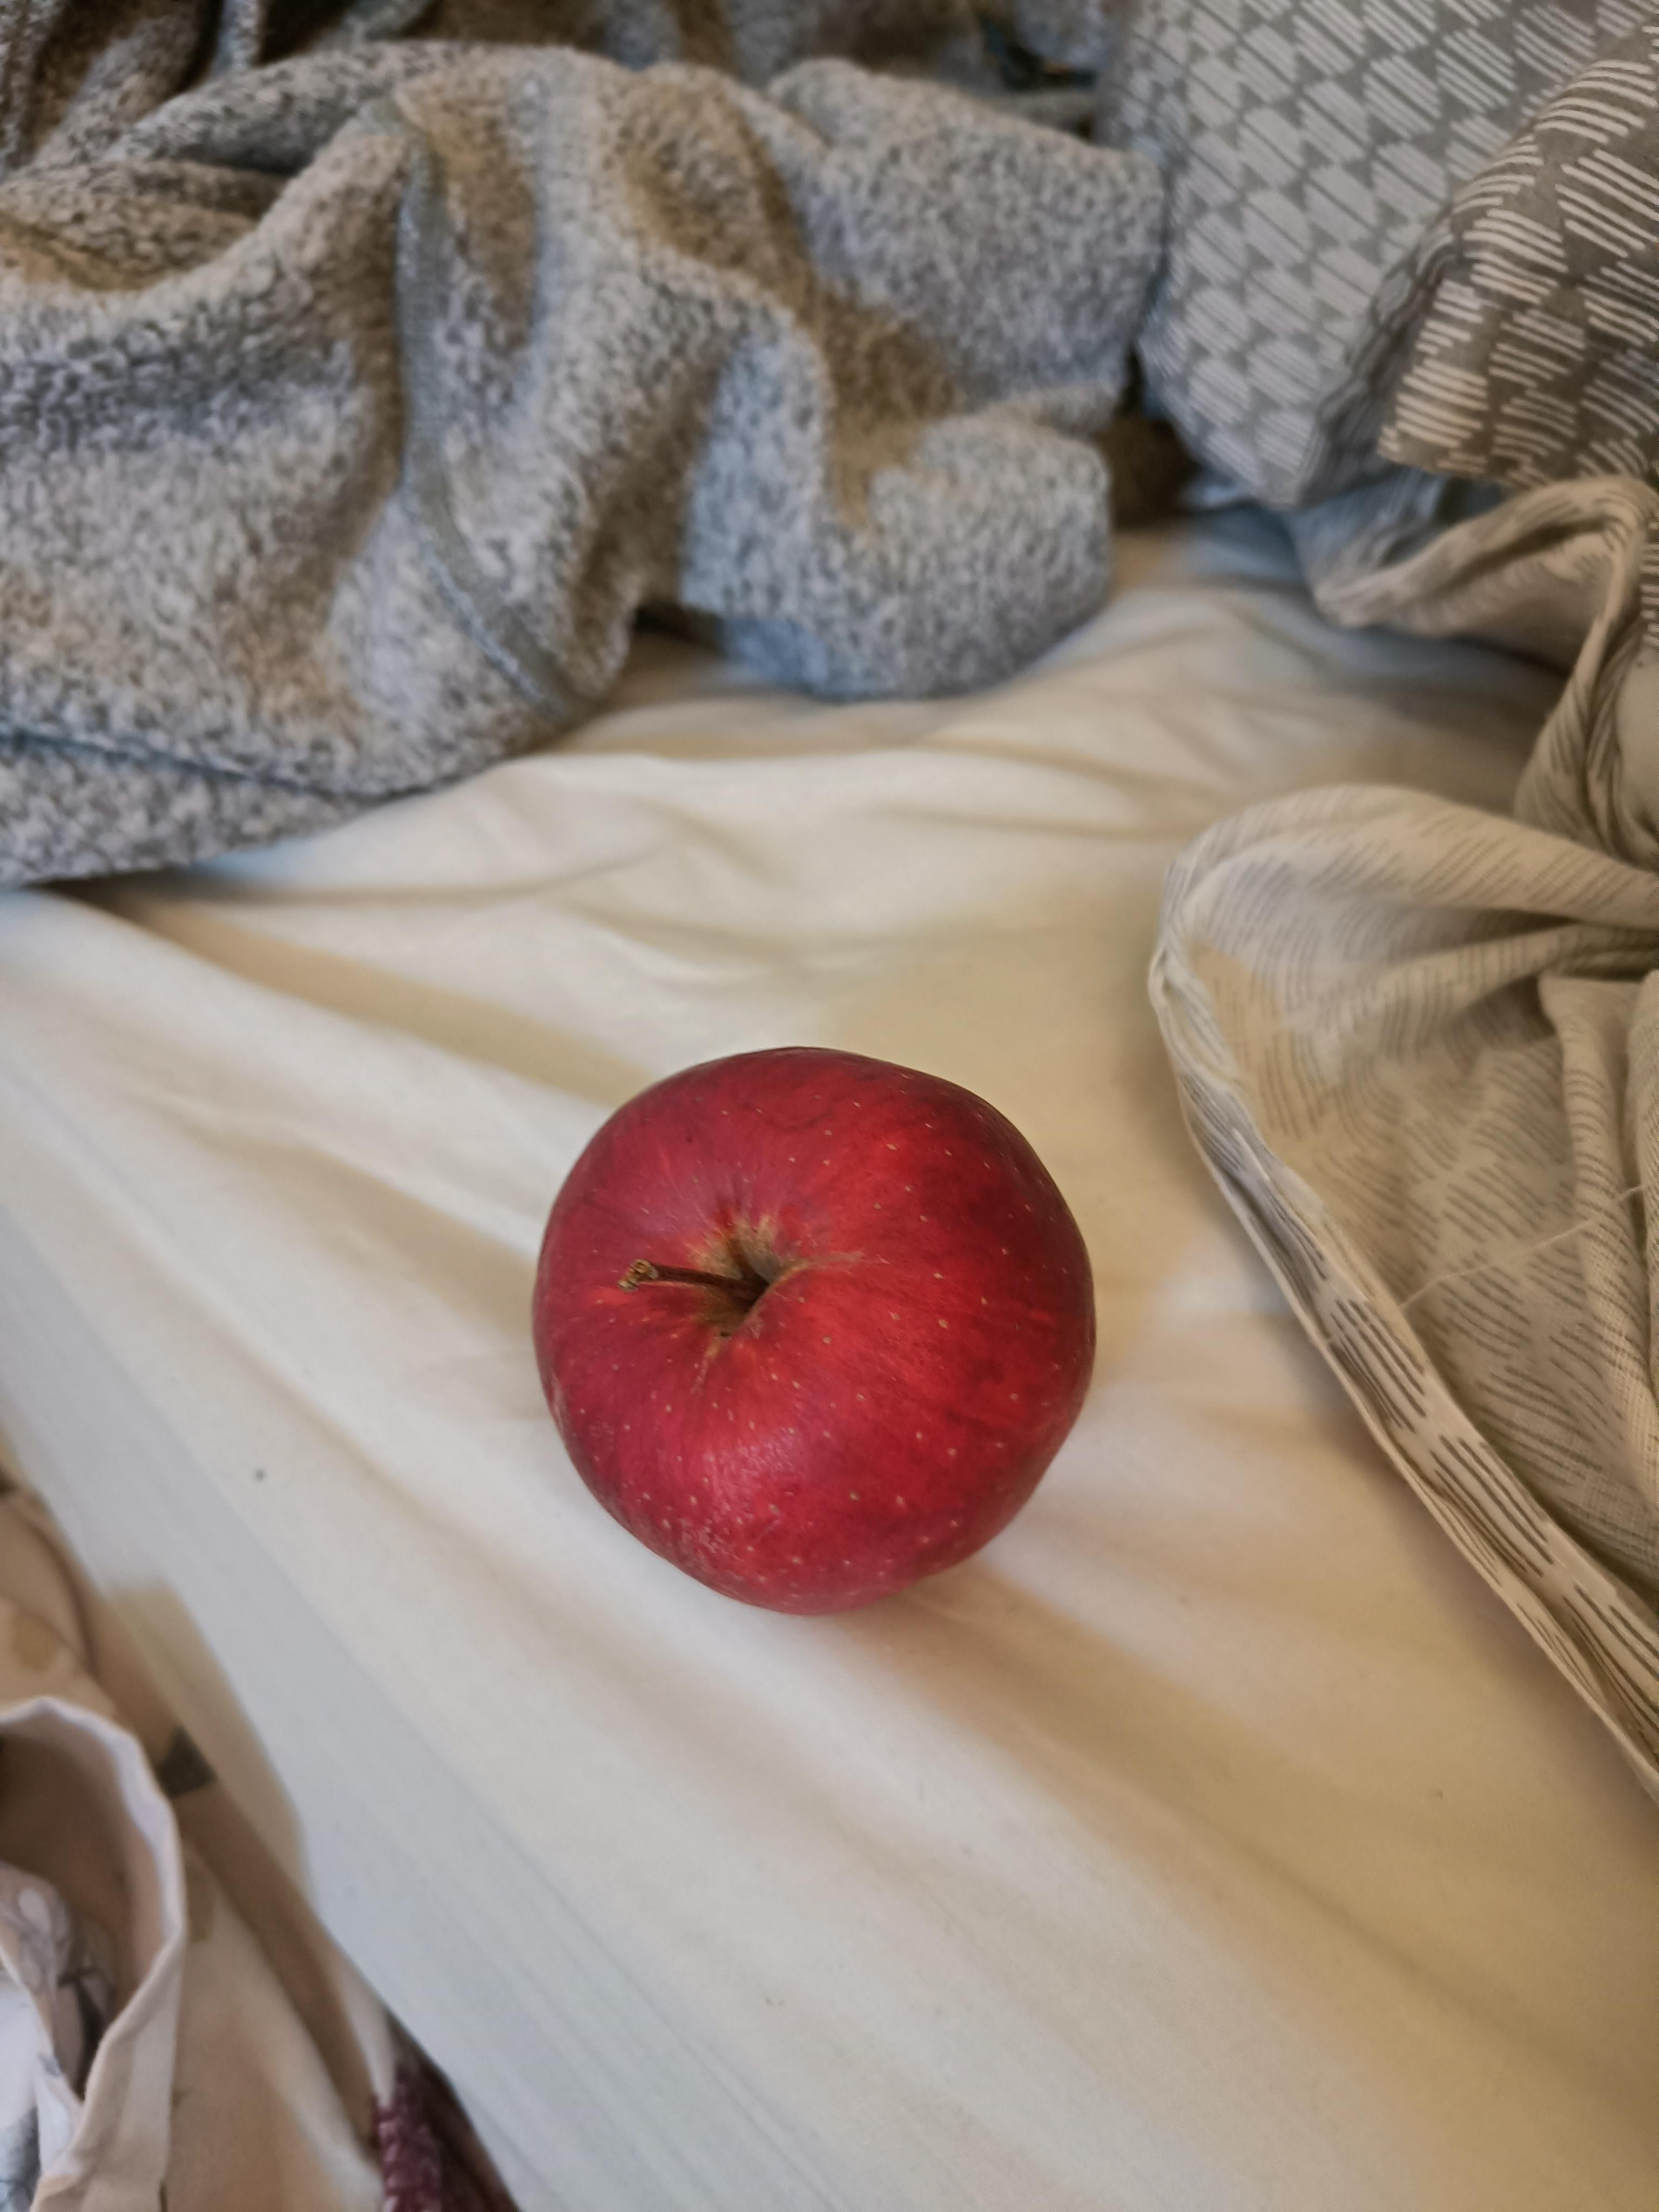Apple: (516, 1028, 1121, 1637)
